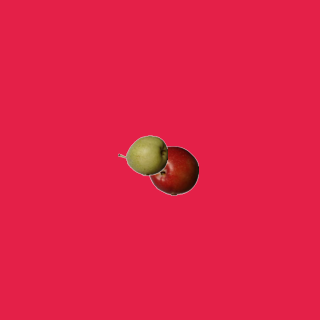Apple Braeburn: (148, 145, 198, 195)
Pear: (117, 130, 167, 180)
